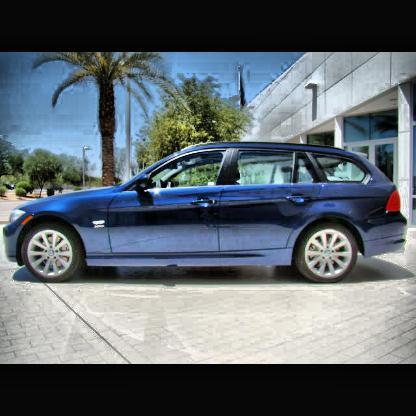BMW 3 Series Wagon 2012: (5, 143, 408, 287)
